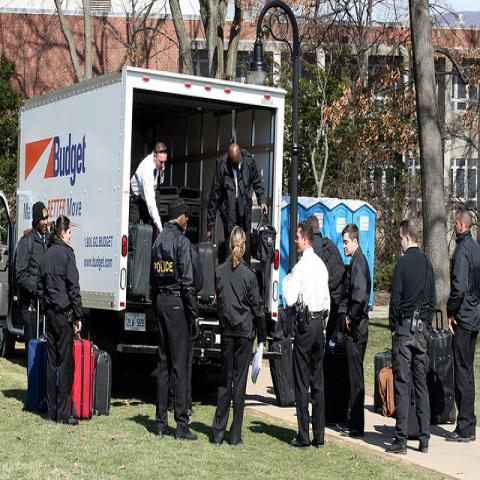truck: (13, 68, 286, 360)
